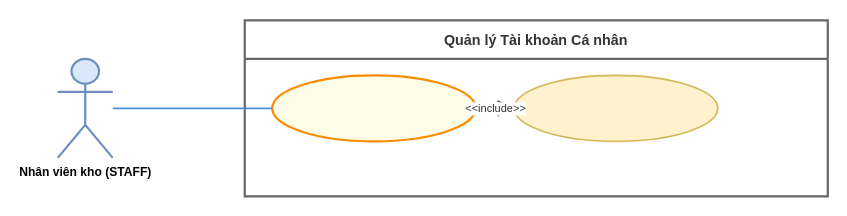
The diagram is 847 pixels wide and 216 high, and some of its shapes have lost their labels. The shapes that lost their labels are listed below. From the top down, each one's centre as x and y in pixels, then its label:
pixel 373 108: Đổi mật khẩu cá nhân
pixel 615 108: Mã hóa mật khẩu bằng BCrypt
